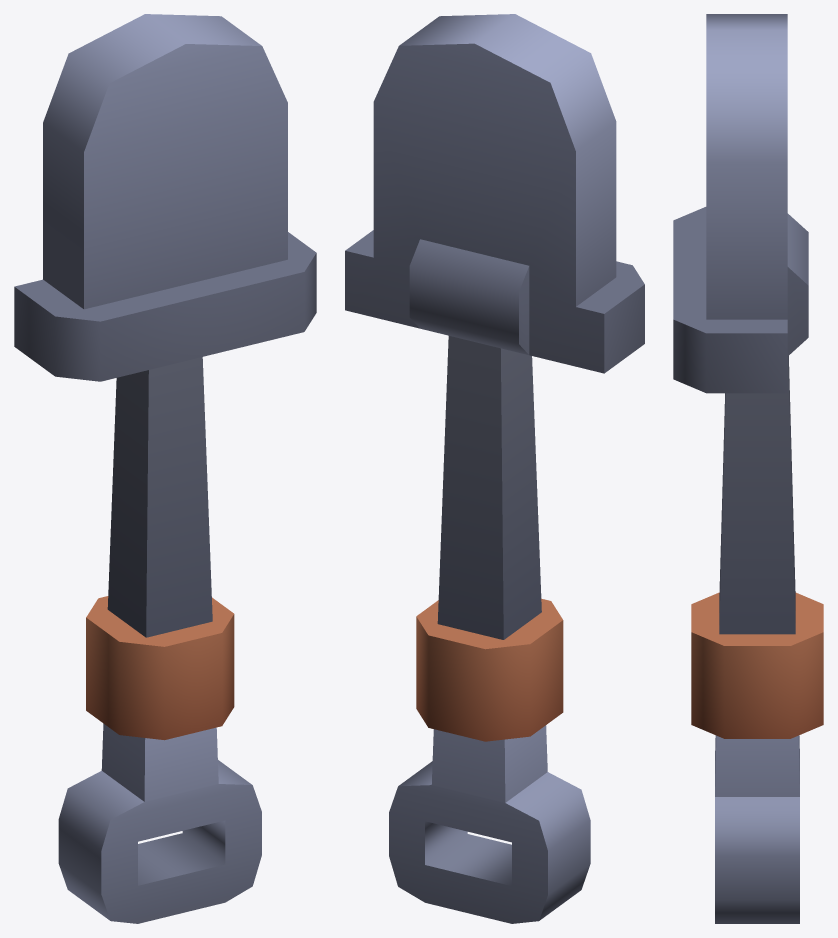
File: tool-shovel-upgraded.glb
3 renders of one model, left to right at view 1: azimuth 30°, elevation 25°; view 2: azimuth 150°, elevation 25°; view 3: azimuth 270°, elevation 25°, orthographic.
Parts seen in each view (by area): view 1: tool-shovel-upgraded; view 2: tool-shovel-upgraded; view 3: tool-shovel-upgraded.
Boxes of the visible parts, left/top/right/bottom form: tool-shovel-upgraded: left=14, top=14, right=316, bottom=923; tool-shovel-upgraded: left=345, top=14, right=644, bottom=923; tool-shovel-upgraded: left=673, top=14, right=823, bottom=923.
Bounding box in the file's own units: 0.0909 × 0.29 × 0.0455.
